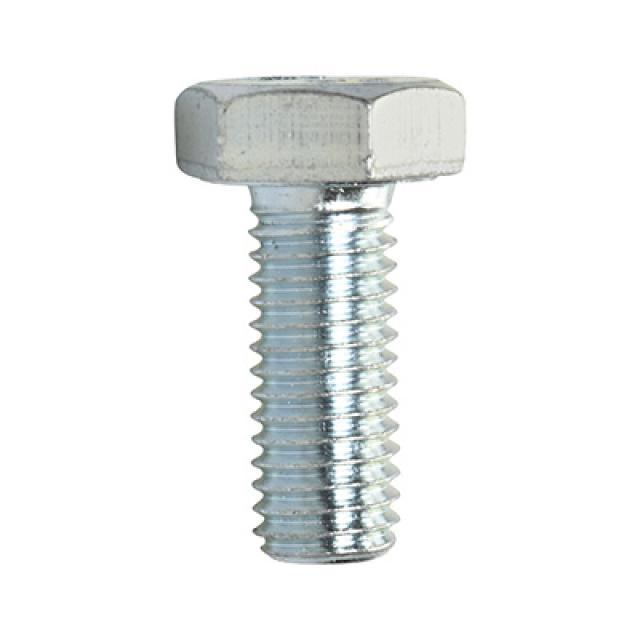Dry Waste: (138, 39, 482, 570)
